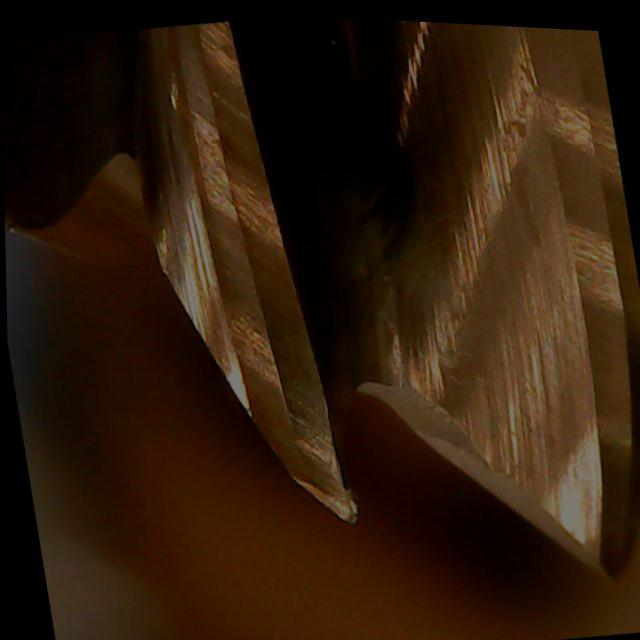Tool-wear-class-1: (234, 332, 369, 537)
